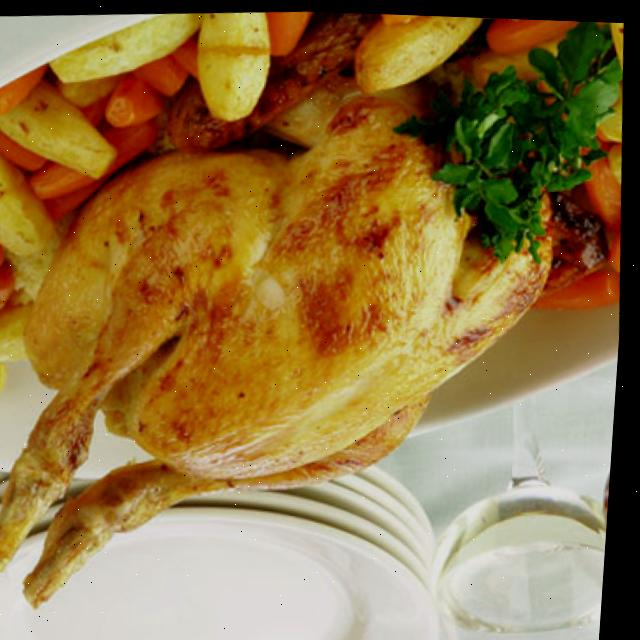鸡肉料理 含炸鸡: (0, 86, 586, 627)
